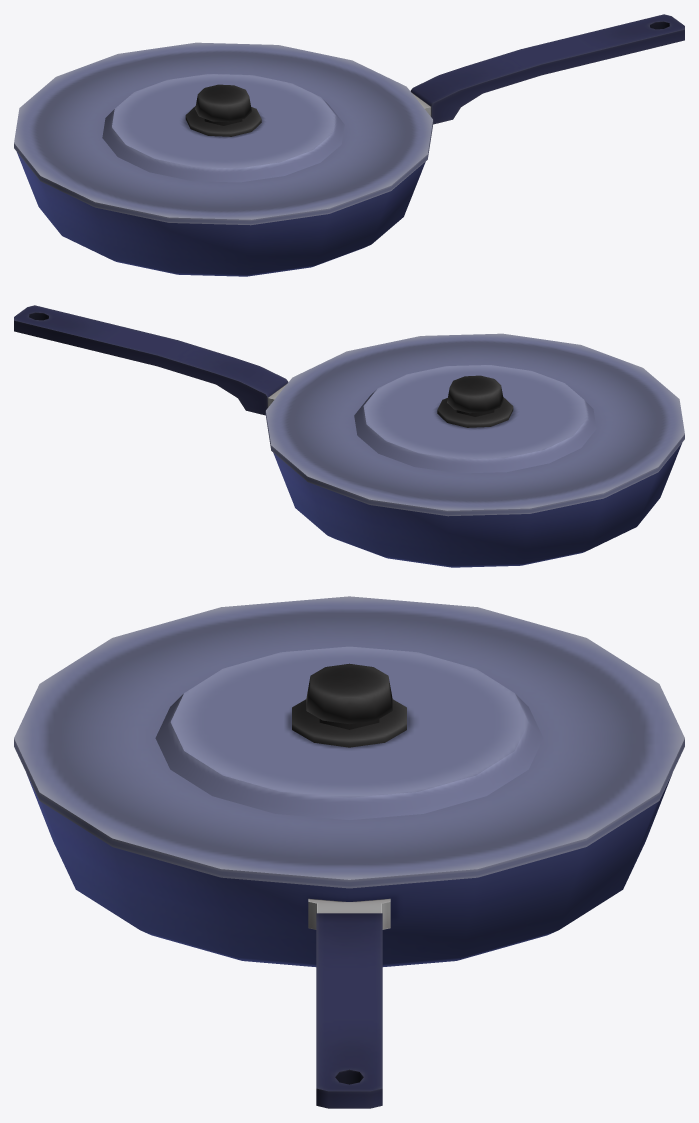
Rendered from KR_Skillet_01_02.fbx.
The picture shows the model from 3 angles, top to bottom: view 1: azimuth 30°, elevation 25°; view 2: azimuth 150°, elevation 25°; view 3: azimuth 270°, elevation 25°; orthographic projection. The views are drawn at different scales.
Parts seen in each view (by area): view 1: lid01, pan01; view 2: lid01, pan01; view 3: lid01, pan01.
Part boxes in pixels (<box>): lid01: <box>14,42,433,225</box>; pan01: <box>17,14,684,276</box>; lid01: <box>265,333,684,516</box>; pan01: <box>14,305,681,567</box>; lid01: <box>14,596,684,888</box>; pan01: <box>27,775,671,1108</box>.
Size of the model in its own units: 45.38 by 7.31 by 26.06.
